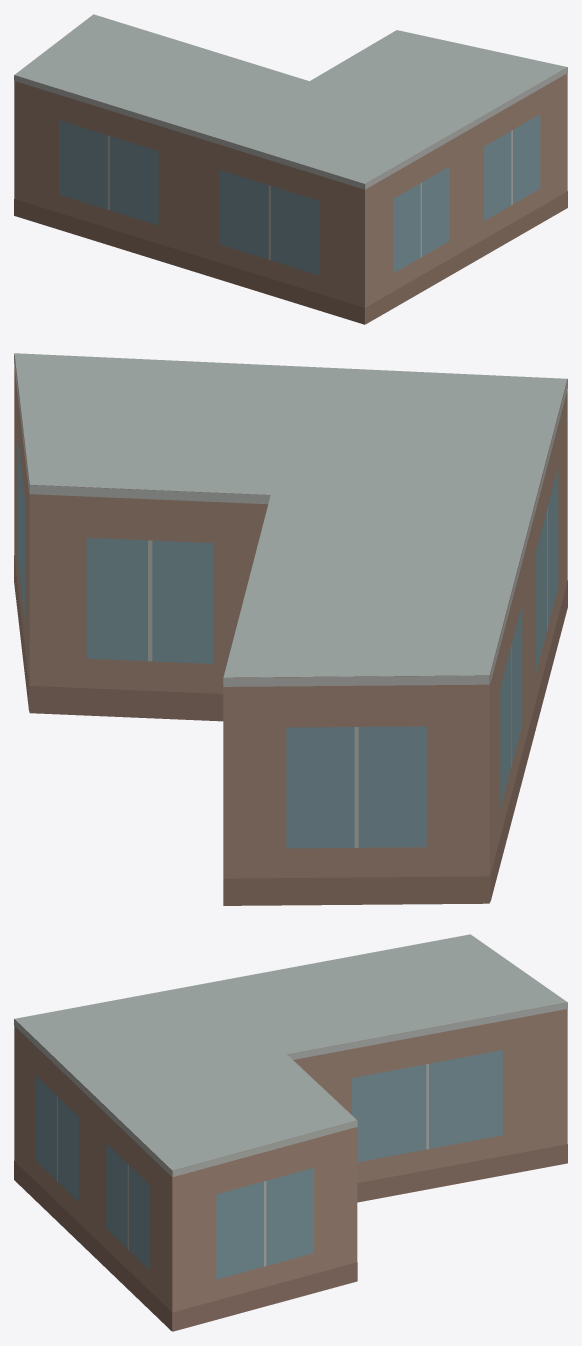
File: survey-upis-32751356.glb
3 renders of one model, top to bottom at view 1: azimuth 30°, elevation 25°; view 2: azimuth 150°, elevation 25°; view 3: azimuth 270°, elevation 25°, orthographic. The views are drawn at different scales.
Parts seen in each view (by area): view 1: survey-upis-32751356.tmp; view 2: survey-upis-32751356.tmp; view 3: survey-upis-32751356.tmp.
Part boxes in pixels (<box>): survey-upis-32751356.tmp: <box>14,14,567,324</box>; survey-upis-32751356.tmp: <box>14,353,567,905</box>; survey-upis-32751356.tmp: <box>14,934,567,1331</box>.
Bounding box in the file's own units: 9.61 × 3.05 × 9.51.
